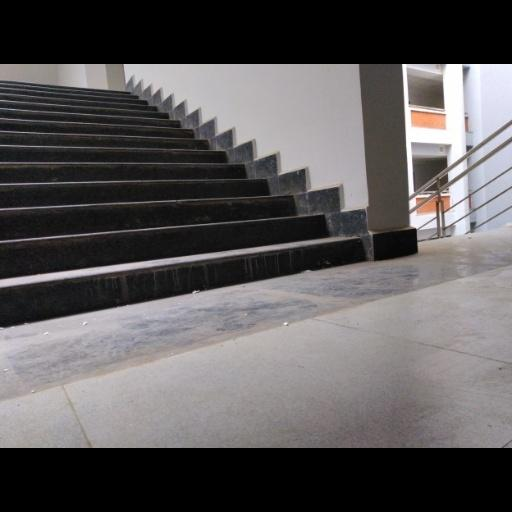stairs: (0, 82, 364, 325)
